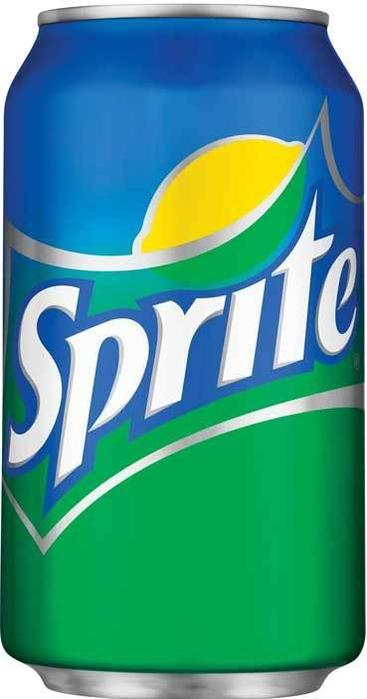Sprite: (8, 15, 365, 671)
